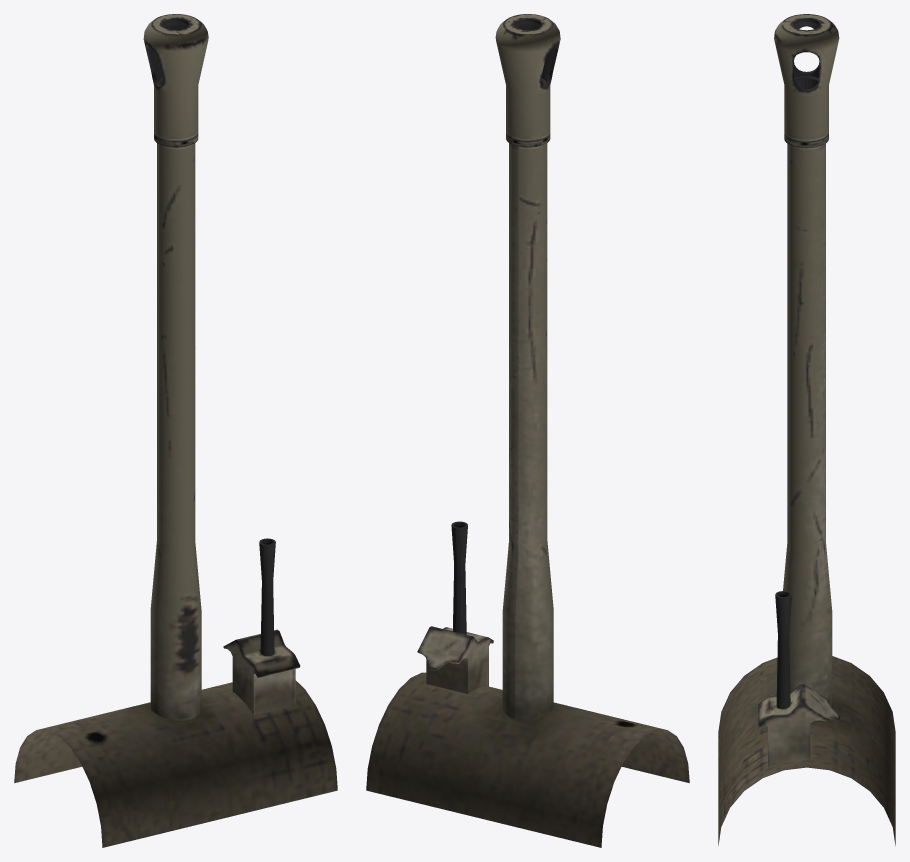
Rendered from Gun_01.glb.
3 views of the same model, side by side, from view 1: azimuth 30°, elevation 25°; view 2: azimuth 150°, elevation 25°; view 3: azimuth 270°, elevation 25° (orthographic).
Visible parts, largest first — view 1: set_0_group_0; view 2: set_0_group_0; view 3: set_0_group_0.
Boxes of the visible parts, x1,y1,x2,y2 form: set_0_group_0: (14,14,337,847); set_0_group_0: (366,14,689,847); set_0_group_0: (718,14,895,845).
Bounding box in the file's own units: 0.6577 × 2.04 × 0.4277.
1 material, 1 textured.
